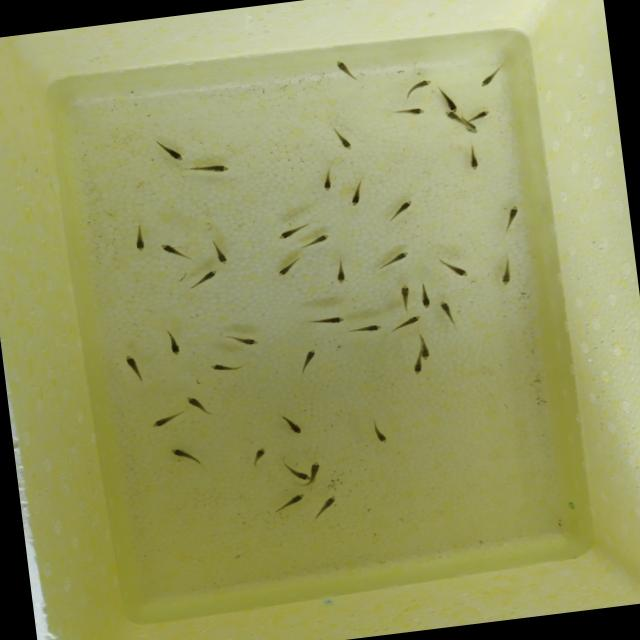fingerling: (220, 329, 268, 353), (362, 418, 398, 450), (328, 54, 357, 84), (458, 146, 488, 174), (441, 260, 476, 280), (319, 305, 344, 333), (162, 141, 188, 167), (162, 334, 188, 360), (404, 352, 428, 380), (198, 159, 235, 177), (271, 222, 299, 245), (494, 263, 518, 289), (199, 361, 247, 374), (386, 246, 416, 266), (298, 342, 321, 368), (332, 132, 360, 152), (150, 410, 178, 430), (502, 198, 524, 223), (321, 488, 344, 511), (392, 278, 414, 302), (403, 77, 438, 92), (155, 239, 184, 257), (194, 266, 223, 284), (210, 242, 230, 268), (130, 230, 150, 256), (414, 285, 434, 311), (317, 170, 338, 194), (123, 350, 141, 378), (302, 454, 327, 474), (399, 103, 428, 120), (476, 71, 500, 90), (272, 261, 296, 280), (182, 392, 208, 409), (170, 443, 192, 463), (250, 441, 268, 464), (347, 184, 364, 208), (438, 94, 463, 110), (288, 418, 308, 438), (396, 196, 418, 214), (332, 262, 348, 286), (396, 315, 426, 327), (361, 320, 382, 337), (307, 232, 332, 246), (290, 468, 314, 482), (287, 490, 308, 506), (438, 296, 453, 318), (460, 120, 481, 135), (418, 340, 433, 361), (469, 108, 494, 120), (444, 110, 459, 124)
